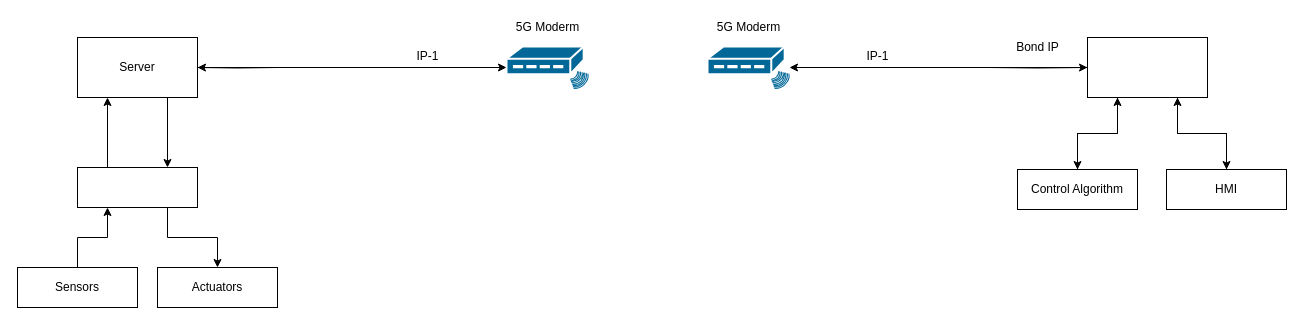
The diagram is 1304 pixels wide and 325 high, and some of its shapes have lost their labels. The shapes that lost their labels are listed below. From the top down, each one's box as (x1, y1, x2, y2) in pixels, then its label:
(1086, 36, 1208, 98): Client
(76, 166, 198, 208): IO Node
